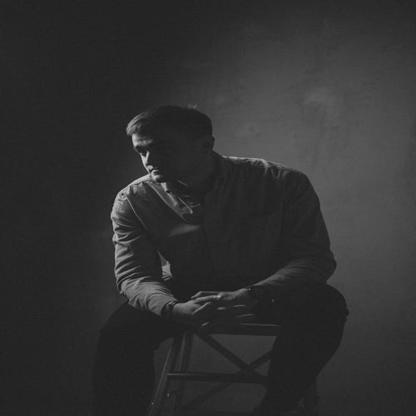person: (91, 94, 357, 416)
